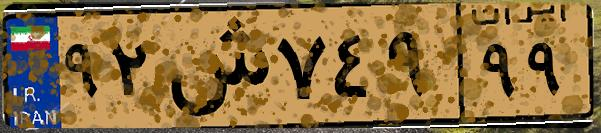2: (110, 28, 158, 98)
4: (330, 28, 385, 110)
7: (270, 28, 330, 110)
9: (385, 28, 445, 110), (57, 26, 110, 100), (475, 38, 525, 113), (525, 38, 570, 115)
ش: (158, 12, 270, 120)
